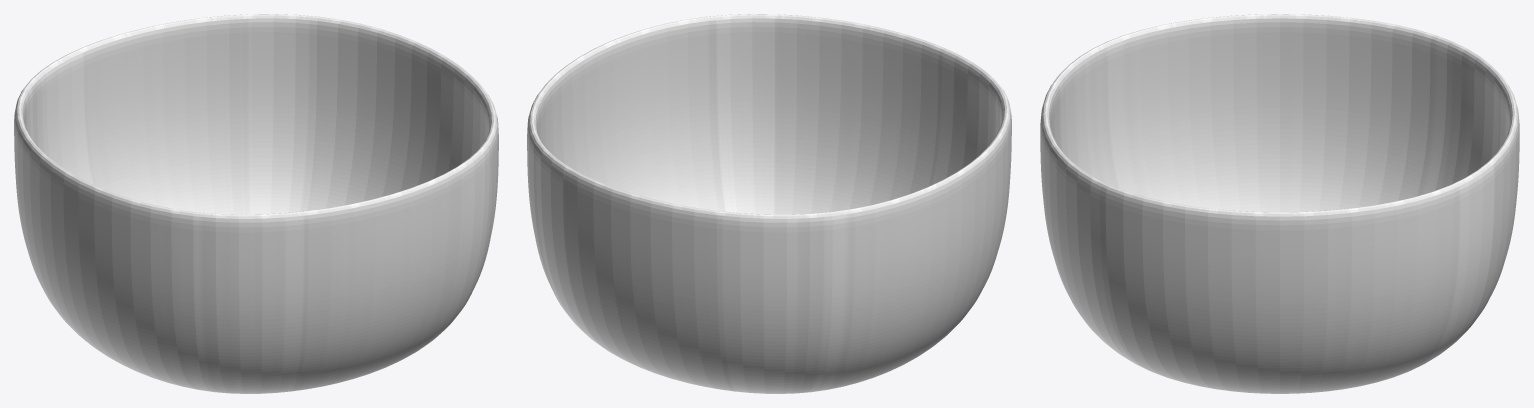
The model's file is Bowl.obj.
3 renders of one model, left to right at view 1: azimuth 30°, elevation 25°; view 2: azimuth 150°, elevation 25°; view 3: azimuth 270°, elevation 25°, orthographic.
Parts seen in each view (by area): view 1: Schüssel; view 2: Schüssel; view 3: Schüssel.
Part boxes in pixels (box(x1,y1,x2,y2)): Schüssel: box(14, 14, 498, 393); Schüssel: box(527, 14, 1011, 393); Schüssel: box(1040, 14, 1519, 393).
Size of the model in its own units: 1.02 by 0.562 by 1.02.
